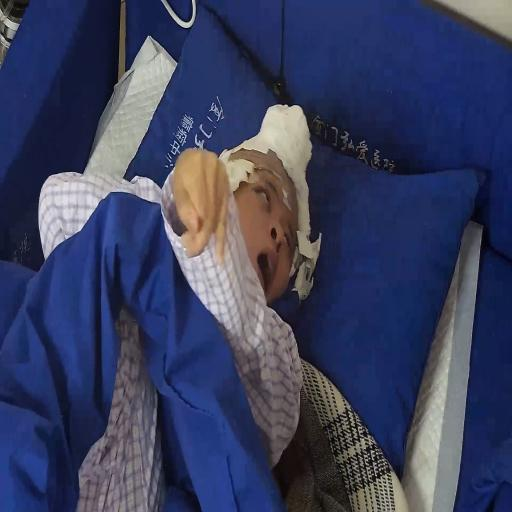Seizure: (231, 124, 300, 298)
